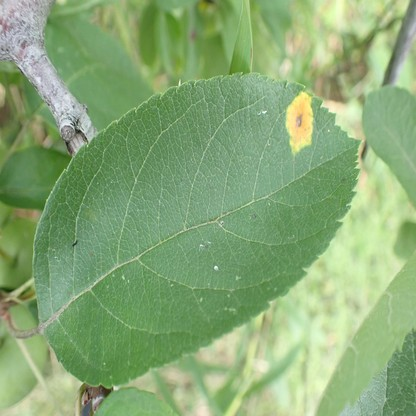rust: (286, 90, 313, 151)
